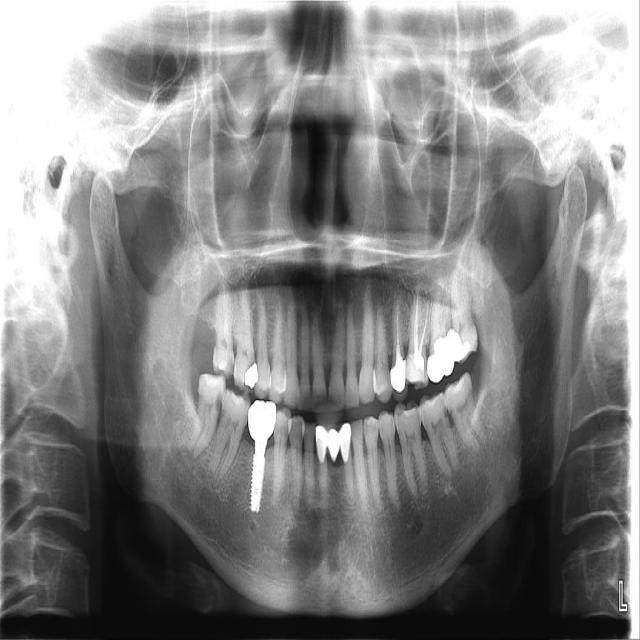52: (426, 327, 456, 384), (314, 421, 351, 465), (450, 316, 479, 366), (232, 354, 259, 394), (405, 349, 429, 390), (390, 353, 408, 403), (212, 390, 225, 416), (222, 354, 235, 379), (442, 405, 450, 423), (448, 409, 456, 420), (220, 408, 226, 421)
73: (407, 280, 432, 358), (392, 294, 407, 367), (624, 624, 631, 634)
BioHorizons Implant: (426, 273, 461, 385)
BioLife Implant: (450, 262, 478, 365)
Biomet 3i Implant: (438, 370, 491, 460)
Blue Sky Bio Implant: (416, 390, 462, 482)
Caries: (211, 277, 241, 381)
Implant: (208, 386, 254, 483)
Keystone Dental Implant: (185, 369, 229, 463)
